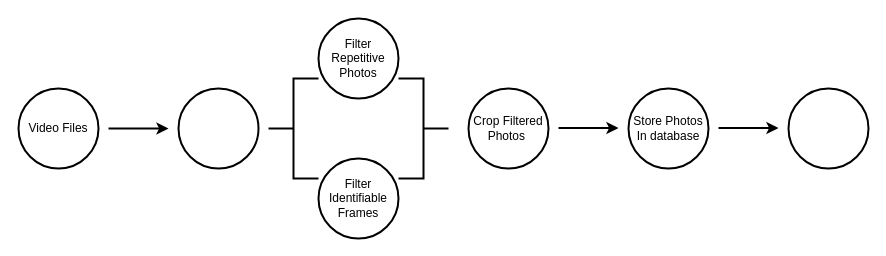
Image size: 886x256. Some labels were removed from this diagram. The centre of each missing label's shape, as x and y in pixels:
INaturalist: (x=828, y=128)
Photo Frames: (x=218, y=128)
